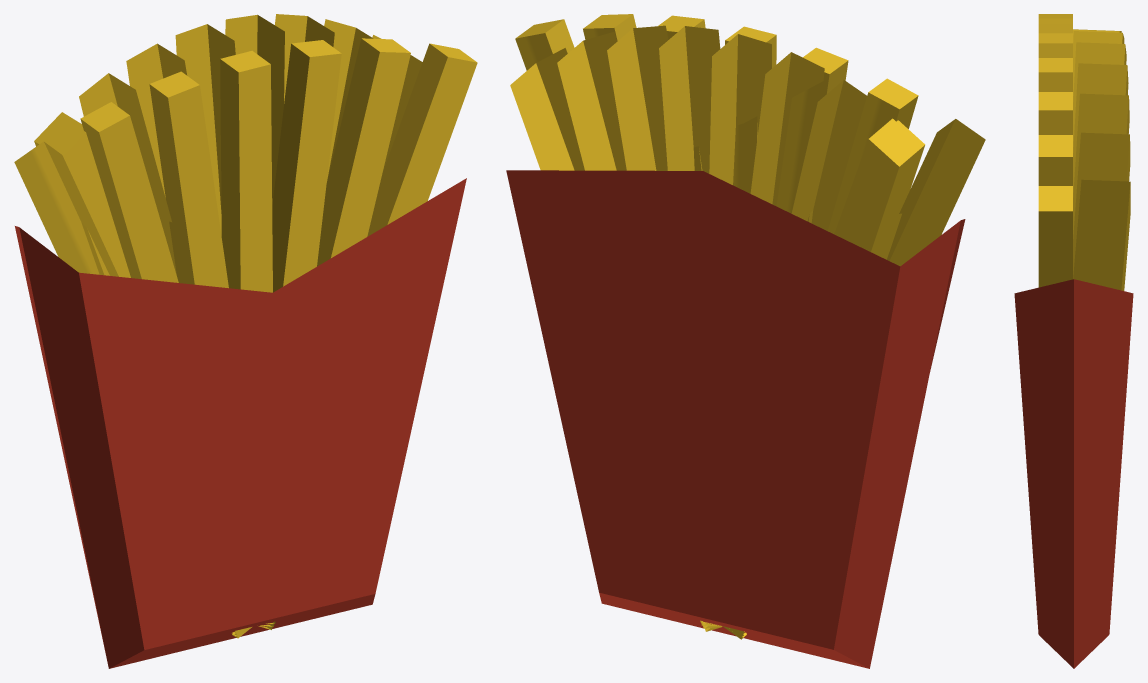
Rendered from fries.glb.
3 renders of one model, left to right at view 1: azimuth 30°, elevation 25°; view 2: azimuth 150°, elevation 25°; view 3: azimuth 270°, elevation 25°, orthographic. The views are drawn at different scales.
Visible parts, largest first — view 1: Cube; view 2: Cube; view 3: Cube.
Part boxes in pixels (x1=…): Cube: x1=14, y1=14, x2=477, y2=668; Cube: x1=506, y1=14, x2=985, y2=668; Cube: x1=1014, y1=14, x2=1133, y2=668.
Size of the model in its own units: 0.3244 by 0.4115 by 0.0803.
Materials: 1 (1 with a texture image).
